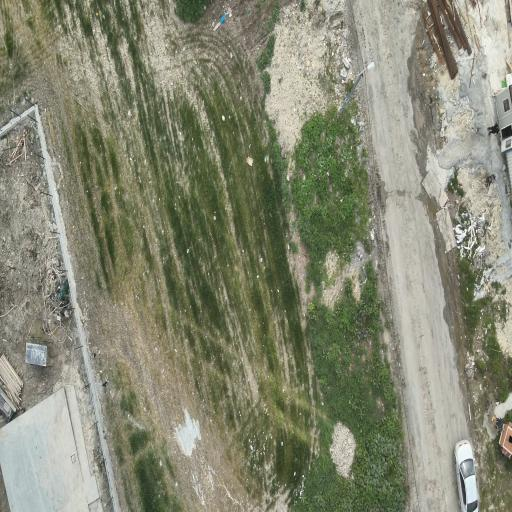car: (454, 440, 478, 511)
person: (487, 122, 499, 135)
